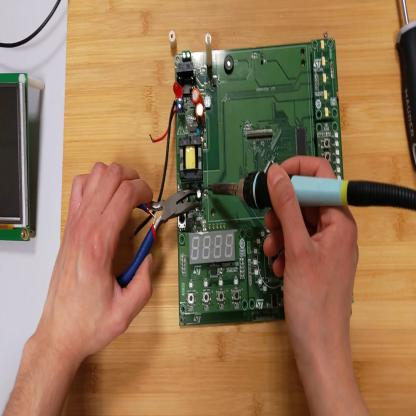hand: (47, 159, 157, 354), (262, 157, 363, 362)
low voltage board: (130, 33, 343, 325)
pliers: (118, 188, 200, 289)
screwdriver-: (397, 2, 416, 165)
welder probe tip: (203, 168, 416, 208)
working area: (62, 3, 415, 415)
